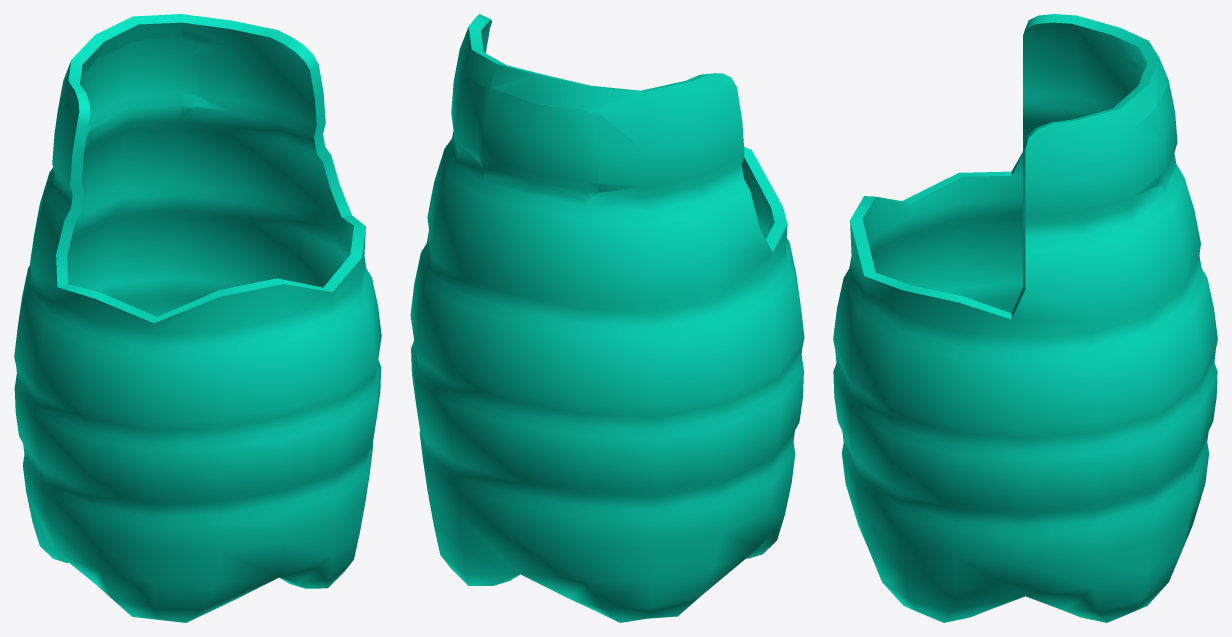
3 renders of one model, left to right at view 1: azimuth 30°, elevation 25°; view 2: azimuth 150°, elevation 25°; view 3: azimuth 270°, elevation 25°, orthographic. The views are drawn at different scales.
Visible parts, largest first — view 1: New Water Bottle 01 Mobile Stand, 01 Cut Area; view 2: New Water Bottle 01 Mobile Stand, 01 Cut Area; view 3: New Water Bottle 01 Mobile Stand, 01 Cut Area.
Part boxes in pixels (left/top/right/bottom): New Water Bottle 01 Mobile Stand: left=14, top=14, right=381, bottom=622; 01 Cut Area: left=85, top=35, right=201, bottom=134; New Water Bottle 01 Mobile Stand: left=410, top=14, right=804, bottom=622; 01 Cut Area: left=477, top=84, right=602, bottom=197; New Water Bottle 01 Mobile Stand: left=833, top=14, right=1217, bottom=622; 01 Cut Area: left=1134, top=57, right=1177, bottom=187.
Bounding box in the file's own units: 0.1535 × 0.2293 × 0.154.
